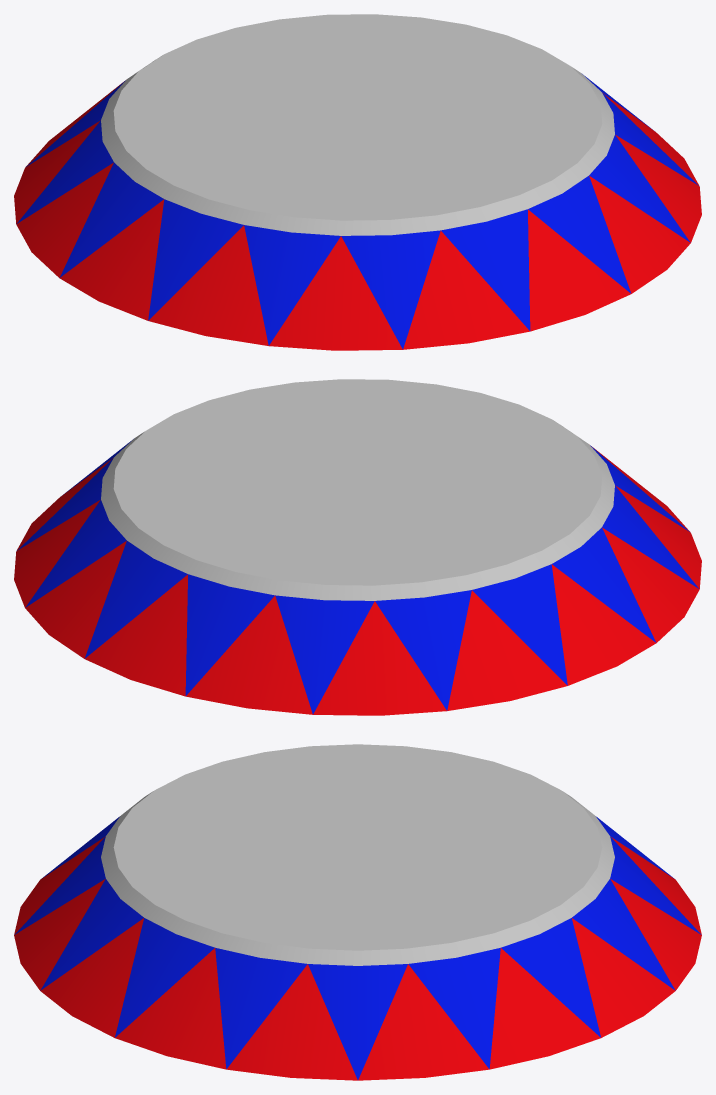
Rendered from LittleStage002.fbx.
3 renders of one model, top to bottom at view 1: azimuth 30°, elevation 25°; view 2: azimuth 150°, elevation 25°; view 3: azimuth 270°, elevation 25°, orthographic.
Visible parts, largest first — view 1: Cylinder; view 2: Cylinder; view 3: Cylinder.
Boxes of the visible parts, x1,y1,x2,y2 form: Cylinder: (14, 14, 701, 350); Cylinder: (14, 379, 701, 715); Cylinder: (14, 744, 701, 1080).
Bounding box in the file's own units: 400 × 56.35 × 400.
